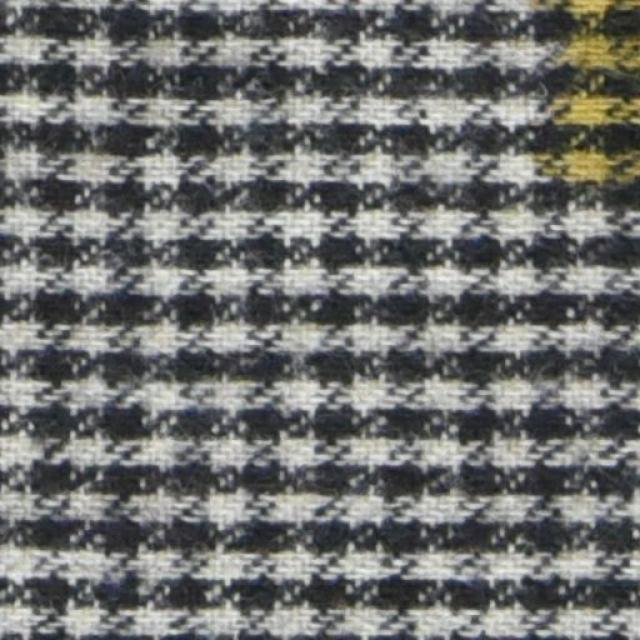Stain: (537, 1, 639, 224)
